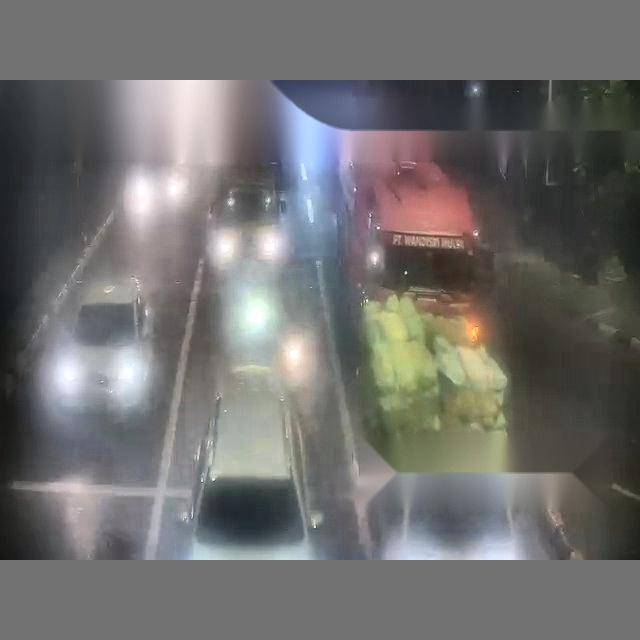Mobil: (148, 374, 324, 559), (56, 278, 152, 418)
Truk: (335, 108, 522, 557)
